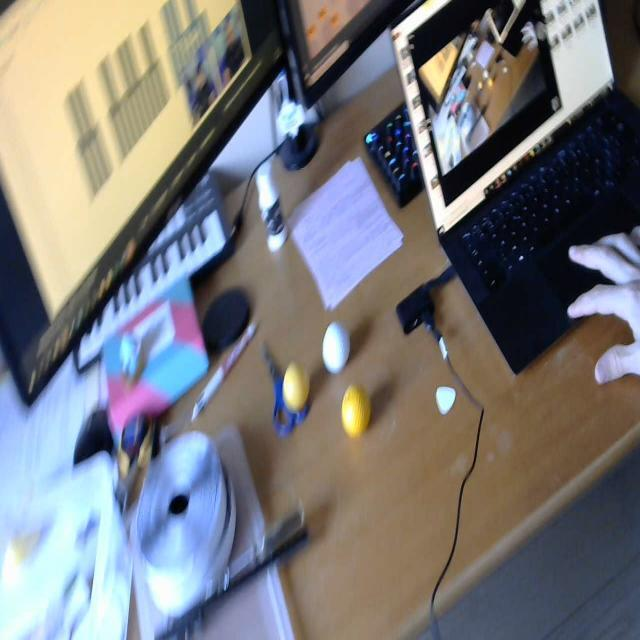golfball: (339, 378, 375, 441), (320, 316, 352, 376), (282, 358, 312, 416)
